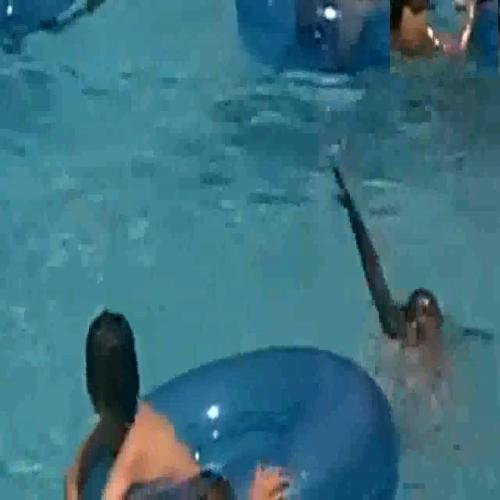drowning: (336, 133, 496, 460)
swimming: (57, 296, 254, 499), (390, 0, 499, 79)
